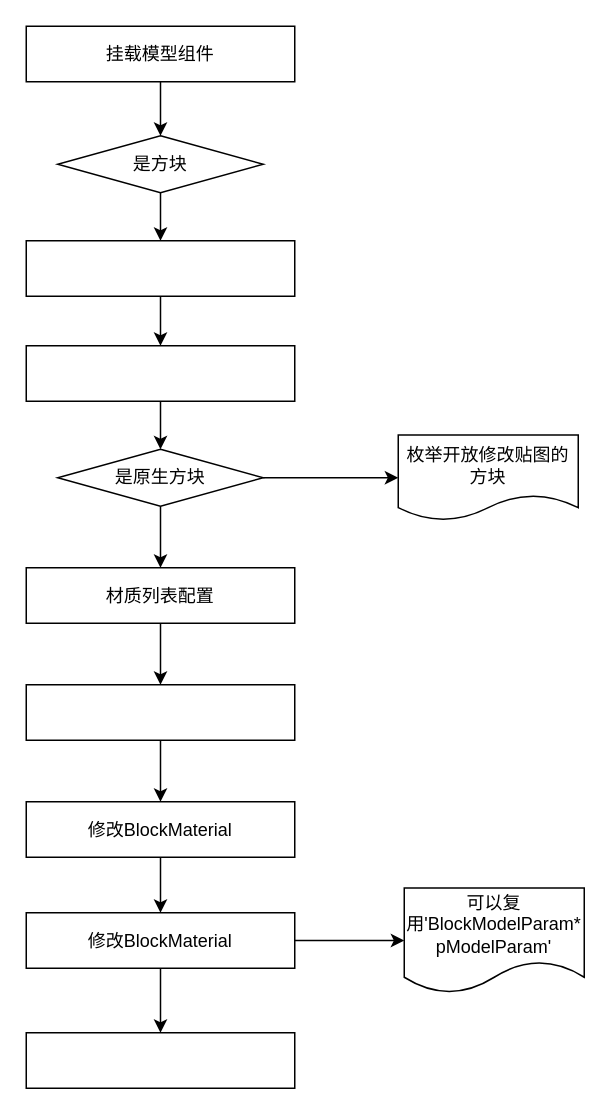
Some shapes in this 611 by 1115 pixel diagram are drawn without their labels. The centre of each missing label's shape, as x and y in pixels:
CPP ModelComponent标记: point (160, 267)
刷新actor模型显示: point (160, 1059)
加载材质列表: point (160, 372)
材质选择贴图: point (160, 711)
